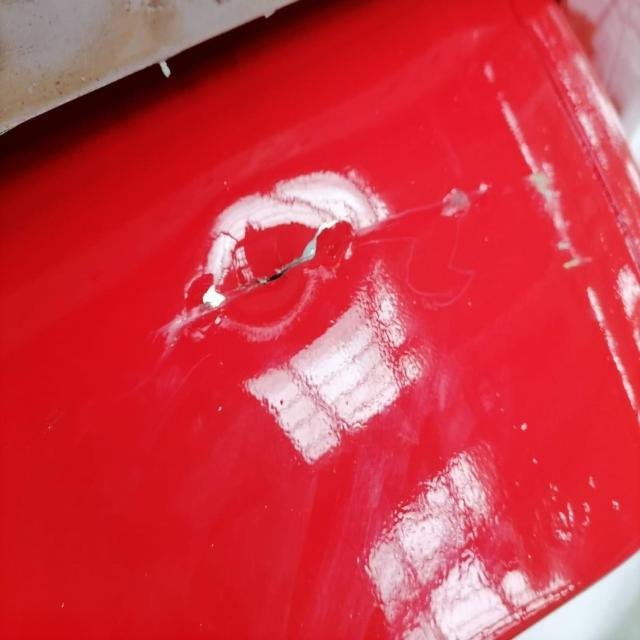crack: (146, 200, 506, 329)
